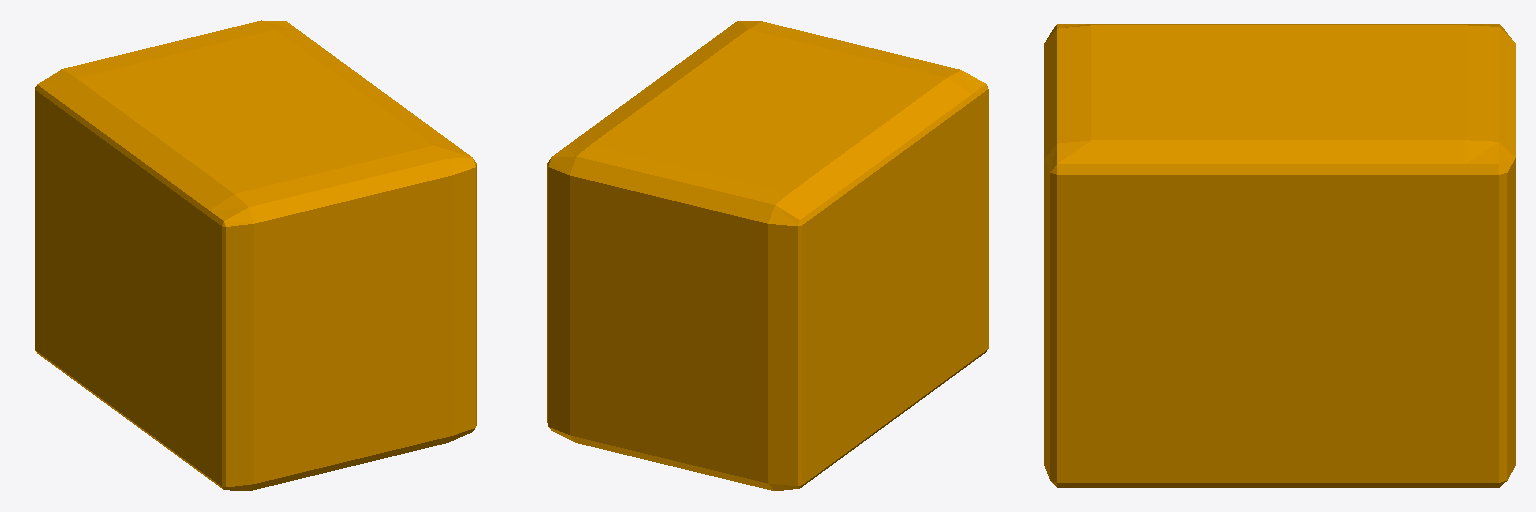
URDF robot description (cylinder_box_60):
<?xml version="1.0" encoding="utf-8"?>  <robot name="cylinder_box_60">   <link name="cylinder_box_60">     <visual>       <geometry>         <mesh filename="../meshes/box/box_60.stl" scale="1 1 1"/>       </geometry>     </visual>     <collision>       <geometry>         <mesh filename="../meshes/box/box_60.stl" scale="1 1 1"/>       </geometry>     </collision>     <inertial>        <origin         xyz="0 0 0"         rpy="0 0 0" />       <mass value="0.19391476419983178"/>       <origin rpy="0 0 0" xyz="0 0 0"/>       <inertia ixx="0.00012509058445748914" ixy="5.0215565482651106e-09" ixz="-8.321779152024282e-10" iyy="9.032093749028626e-05" iyz="4.590654611621595e-09" izz="0.00011809554475340177"/>     </inertial>   </link>  </robot>

--- What the picture shows (computed from the rendered views, not written in the file) ---
3 views of the same robot in one strip: view 1: azimuth 30°, elevation 25°; view 2: azimuth 150°, elevation 25°; view 3: azimuth 270°, elevation 25° (orthographic).
Robot: cylinder_box_60 — 1 links, 0 joints (none); root link cylinder_box_60; default pose: all joints at 0.
Visible links, largest first — view 1: cylinder_box_60; view 2: cylinder_box_60; view 3: cylinder_box_60.
Boxes of the visible links, left/top/right/bottom form: cylinder_box_60: left=35, top=20, right=476, bottom=490; cylinder_box_60: left=547, top=21, right=988, bottom=490; cylinder_box_60: left=1044, top=24, right=1515, bottom=487.
Bounding box of the posed robot: 0.0513 × 0.0693 × 0.0555 m (x, y, z).
Meshes: 1 distinct files referenced, 1 mesh visuals loaded (1 binary STL).